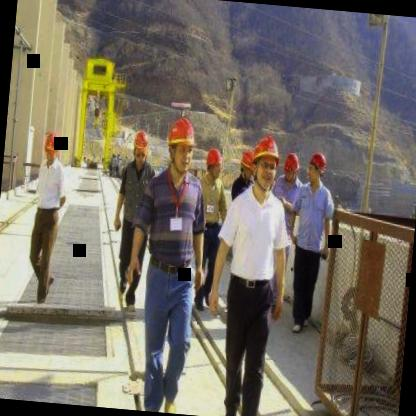helmet: (244, 132, 284, 194), (164, 114, 197, 174), (39, 126, 66, 168), (201, 141, 224, 184), (279, 146, 301, 190), (130, 128, 153, 170), (307, 146, 329, 186), (237, 143, 256, 184)
